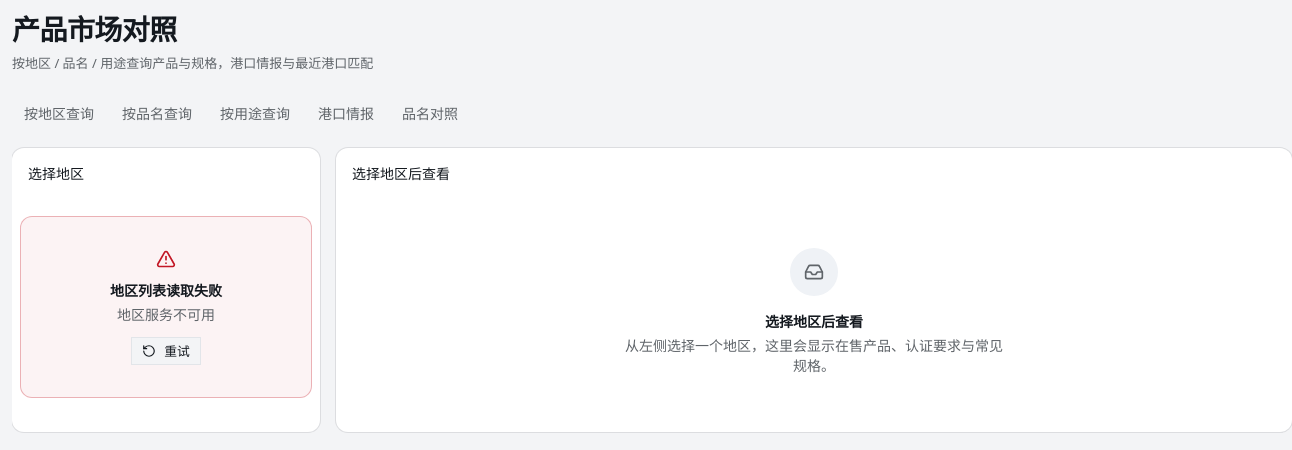
Test: 市场对照 · 地区查询 › 地区列表加载中 ⇒ LoadingBlock；失败 ⇒ ErrorState + 重试
The image size is (1292, 450).
Click the button "重试": (166, 351) [131,337,201,365]
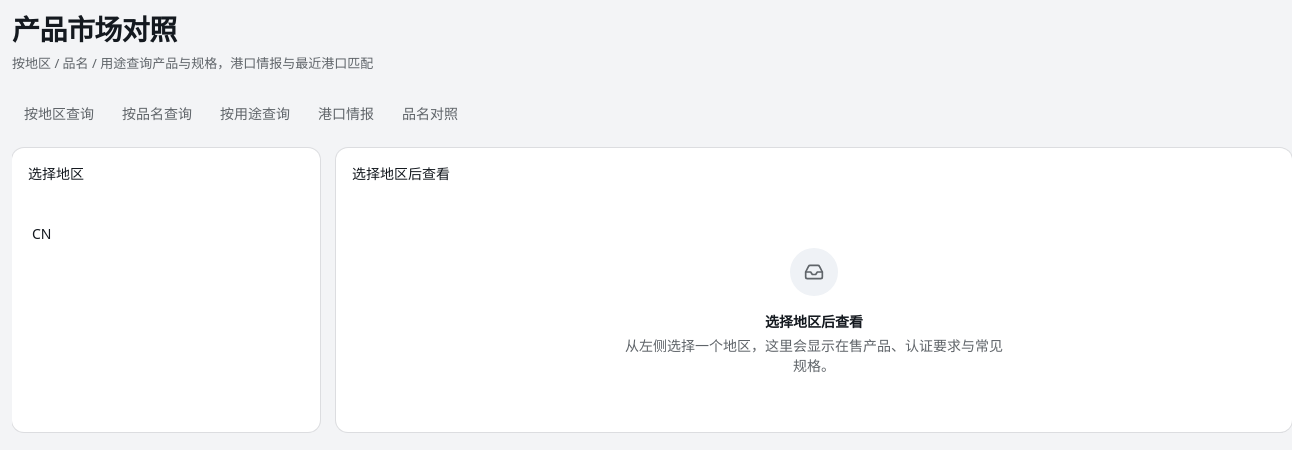
Expected: the message "地区列表读取失败 地区服务不可用 重试" is gone
Expected: the text "CN" is shown, [20,216,312,252]
